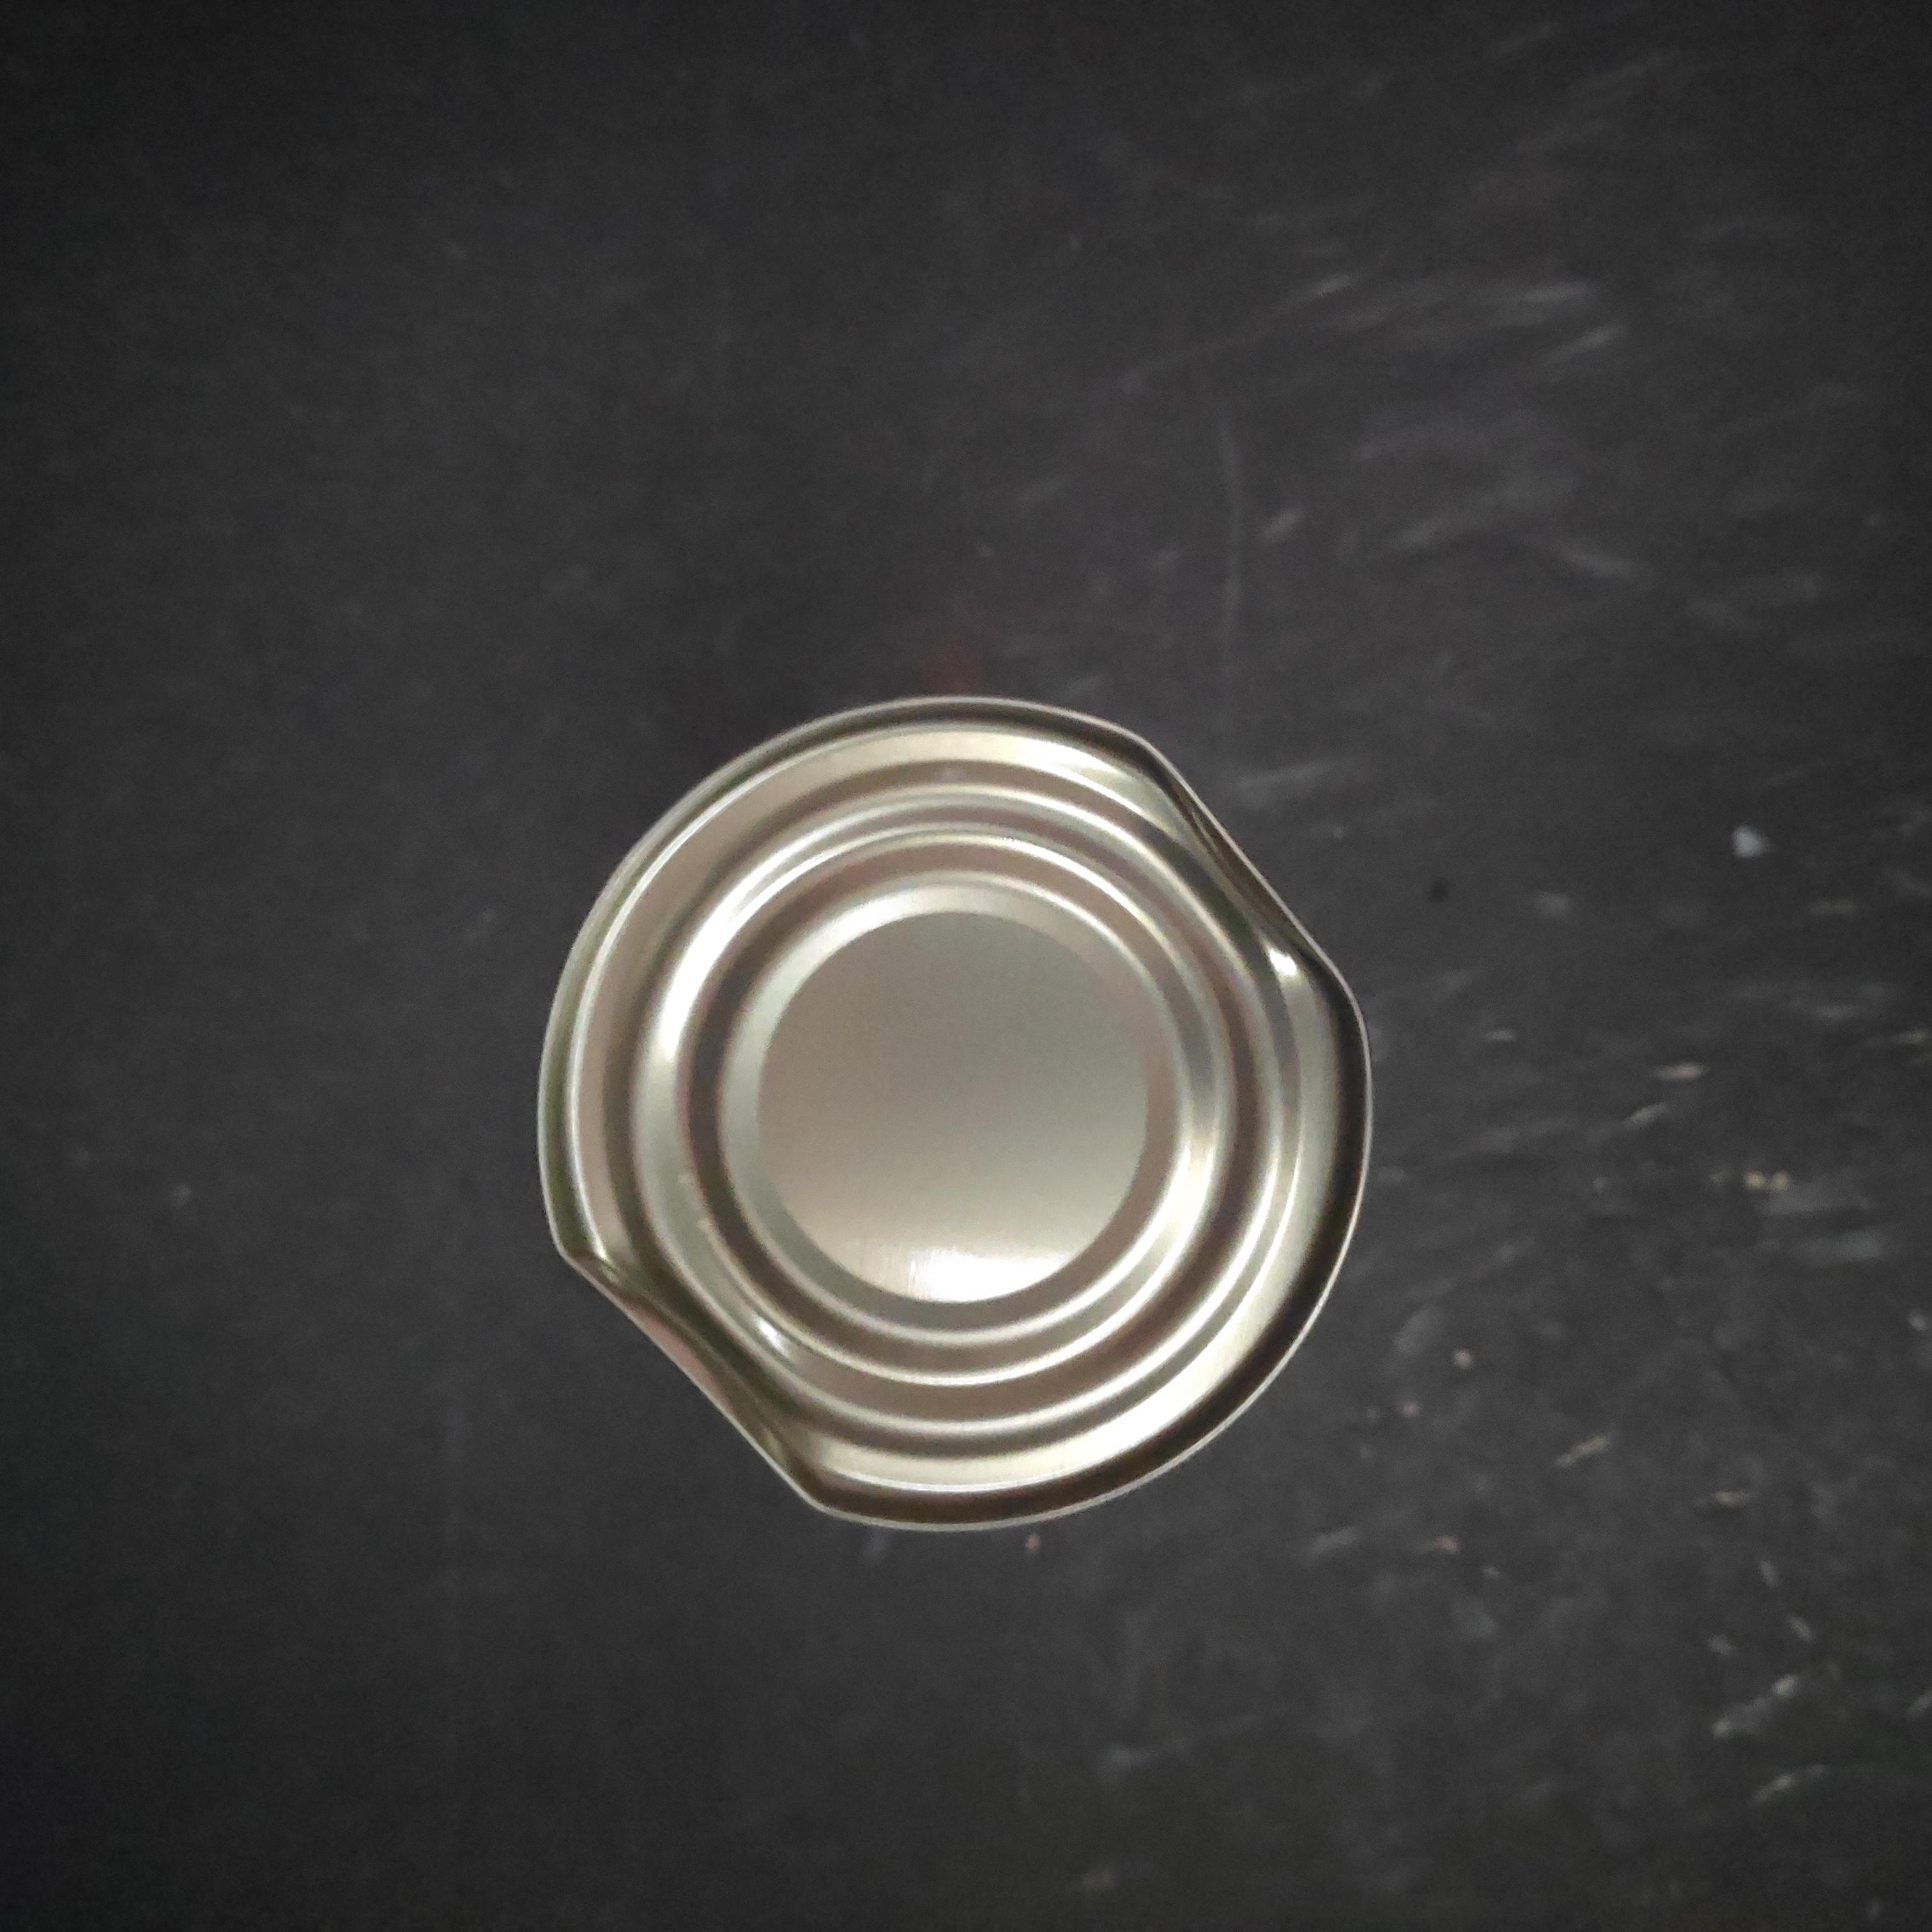Minor Defect: (534, 375, 1405, 1258)
